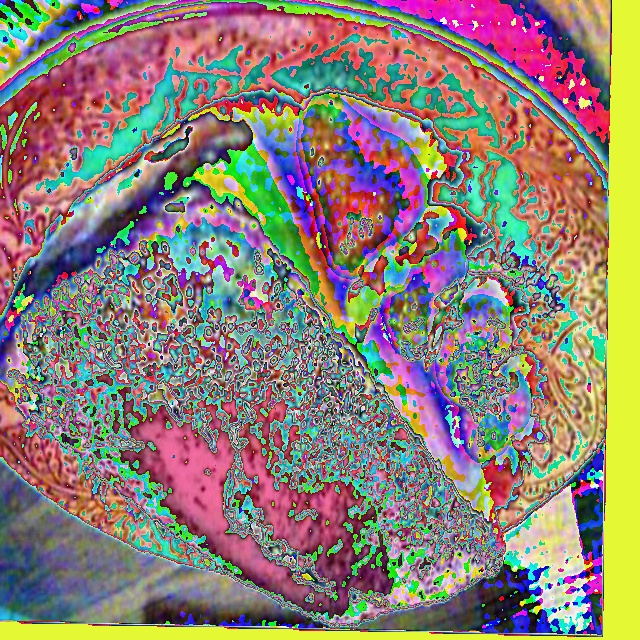background: (0, 94, 550, 629)
